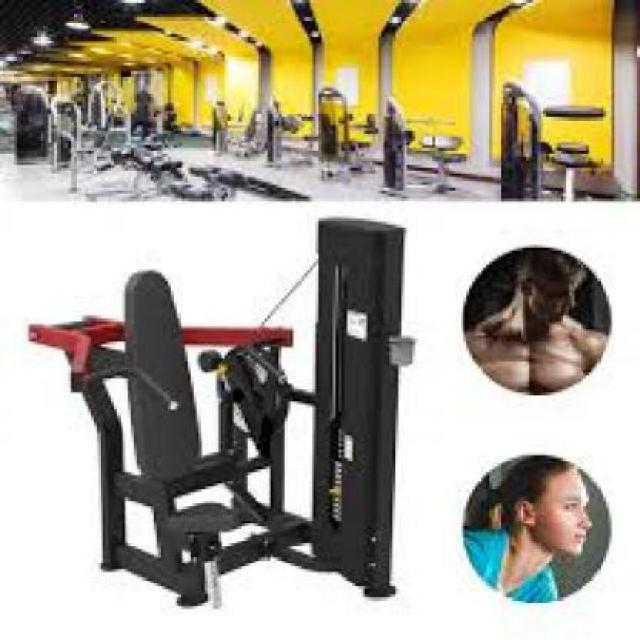shoulder press machine: (17, 208, 423, 615)
